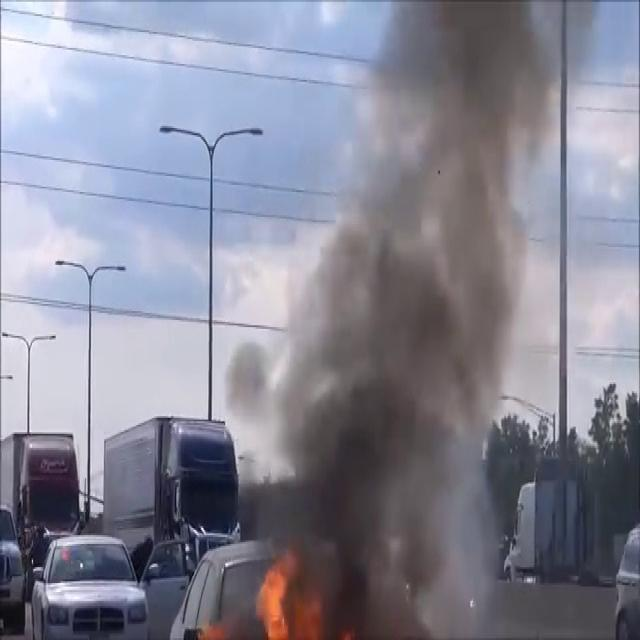Fire: (251, 546, 328, 640)
Smoke: (240, 0, 573, 635)
